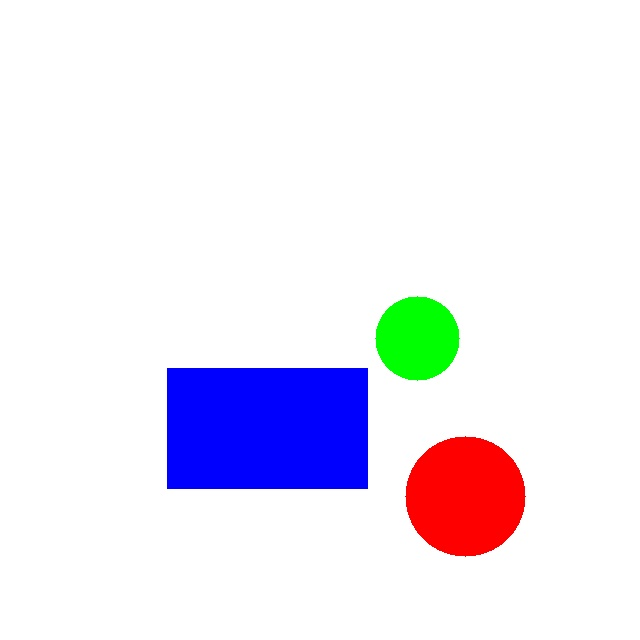cartao: (167, 368, 367, 488)
rosca_externa: (375, 296, 459, 380)
rosca_interna: (405, 436, 525, 556)
